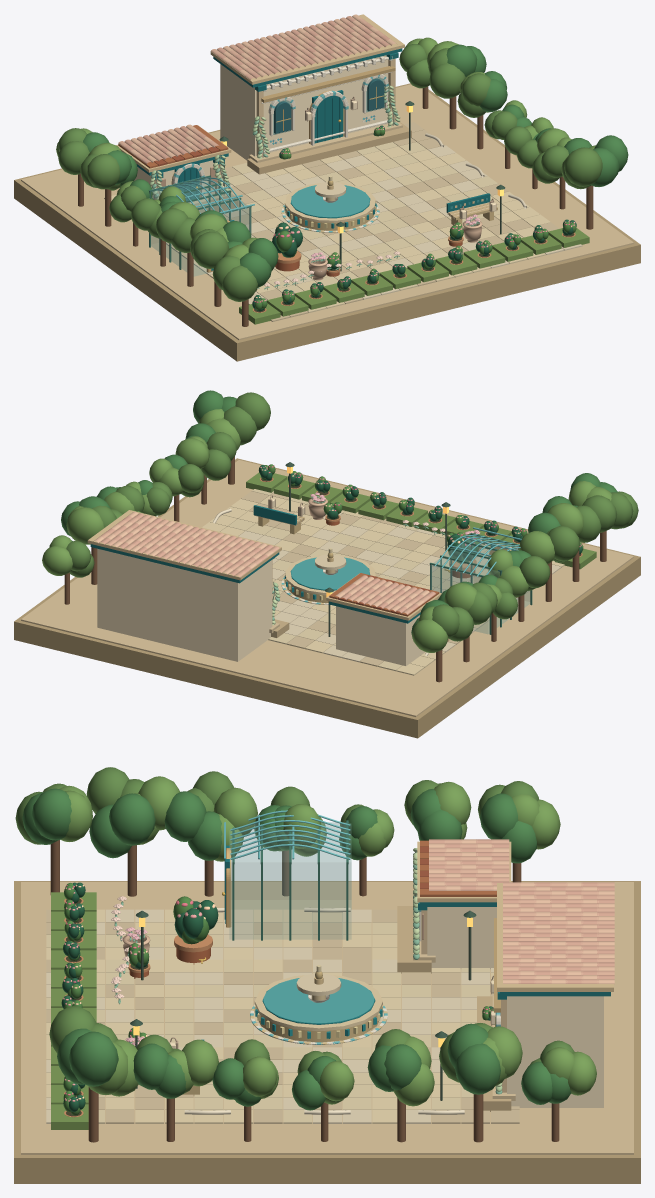
File: garden.glb
3 views of the same model, one above another, from view 1: azimuth 30°, elevation 25°; view 2: azimuth 150°, elevation 25°; view 3: azimuth 270°, elevation 25° (orthographic). The views are drawn at different scales.
Parts seen in each view (by area): view 1: Art_Material_49, Art_Material_97, Art_Material_48, Art_Material_50, Art_Material_54, Art_Material_96, Art_Material_52, Art_Material_53, Art_Material_51, Art_Material_90, Art_Material_98, Art_Roof coral 0 (+26 smaller); view 2: Art_Material_49, Art_Material_54, Art_Material_48, Art_Material_97, Art_Material_98, Art_Material_50, Art_Material_51, Art_Material_96, Art_Material_90, Art_Material_53, Art_Material_52, Art_Roof coral 0 (+13 smaller); view 3: Art_Material_49, Art_Material_96, Art_Material_48, Art_Material_98, Art_Material_50, Art_Material_53, Art_Material_51, Art_Material_17, Art_Material_52, Art_Material_54, Art_Material_97, Art_Roof coral 0 (+18 smaller).
Part boxes in pixels (box(x1,y1,x2,y2)): Art_Material_49: box(21, 84, 633, 340); Art_Material_97: box(58, 44, 602, 301); Art_Material_48: box(14, 83, 640, 361); Art_Material_50: box(104, 146, 550, 308); Art_Material_54: box(134, 55, 388, 197); Art_Material_96: box(83, 44, 628, 287); Art_Material_52: box(222, 122, 559, 321); Art_Material_53: box(167, 142, 511, 312); Art_Material_51: box(158, 145, 582, 304); Art_Material_90: box(239, 228, 589, 324); Art_Material_98: box(56, 37, 595, 258); Art_Roof coral 0: box(118, 17, 384, 160); Art_Material_49: box(21, 460, 633, 716); Art_Material_54: box(97, 548, 424, 665); Art_Material_48: box(14, 458, 640, 738); Art_Material_97: box(66, 392, 638, 641); Art_Material_98: box(42, 409, 611, 652); Art_Material_50: box(202, 495, 564, 675); Art_Material_51: box(238, 513, 561, 662); Art_Material_96: box(61, 390, 617, 638); Art_Material_90: box(246, 472, 596, 569); Art_Material_53: box(228, 489, 487, 671); Art_Material_52: box(241, 491, 460, 666); Art_Roof coral 0: box(100, 515, 429, 614); Art_Material_49: box(21, 882, 633, 1154); Art_Material_96: box(22, 788, 571, 1110); Art_Material_48: box(14, 881, 640, 1183); Art_Material_98: box(60, 776, 596, 1106); Art_Material_50: box(46, 909, 493, 1123); Art_Material_53: box(46, 912, 489, 1123); Art_Material_51: box(46, 909, 493, 1123); Art_Material_17: box(229, 822, 351, 939); Art_Material_52: box(46, 909, 519, 1123); Art_Material_54: box(427, 907, 603, 1107); Art_Material_97: box(15, 767, 574, 1099); Art_Roof coral 0: box(429, 839, 614, 983).
Size of the model in its own units: 24.25 by 5.97 by 22.
